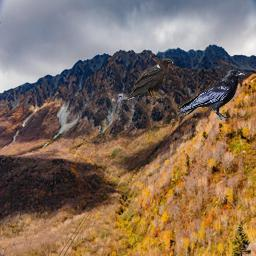Crow: (176, 68, 246, 122), (124, 58, 174, 102)
